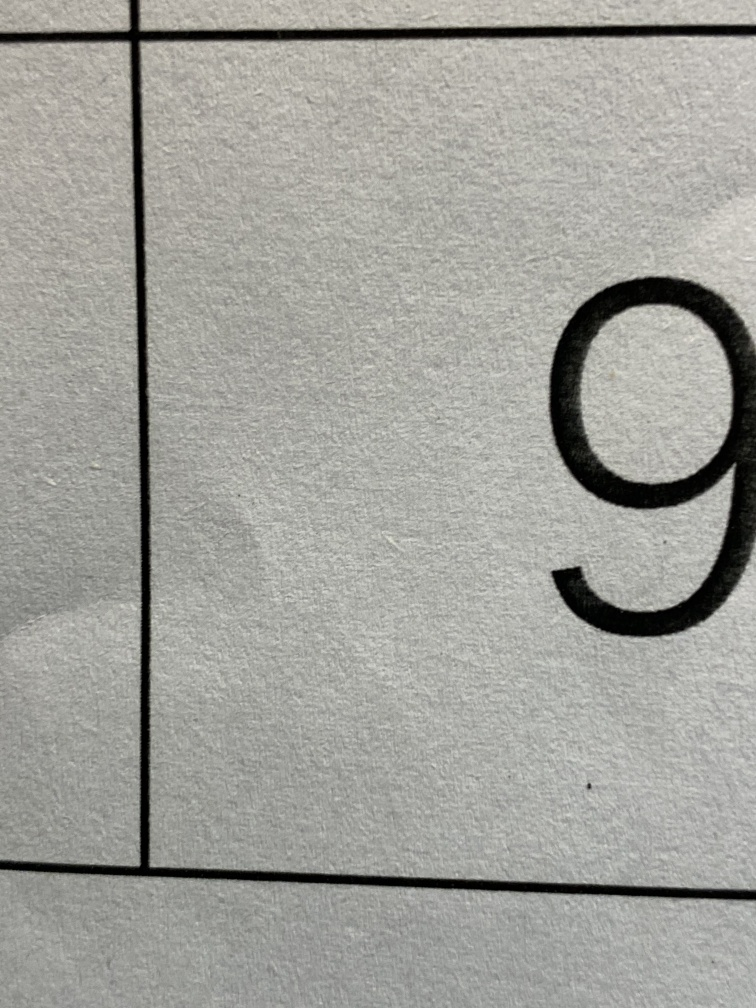nine: (485, 242, 756, 690)
